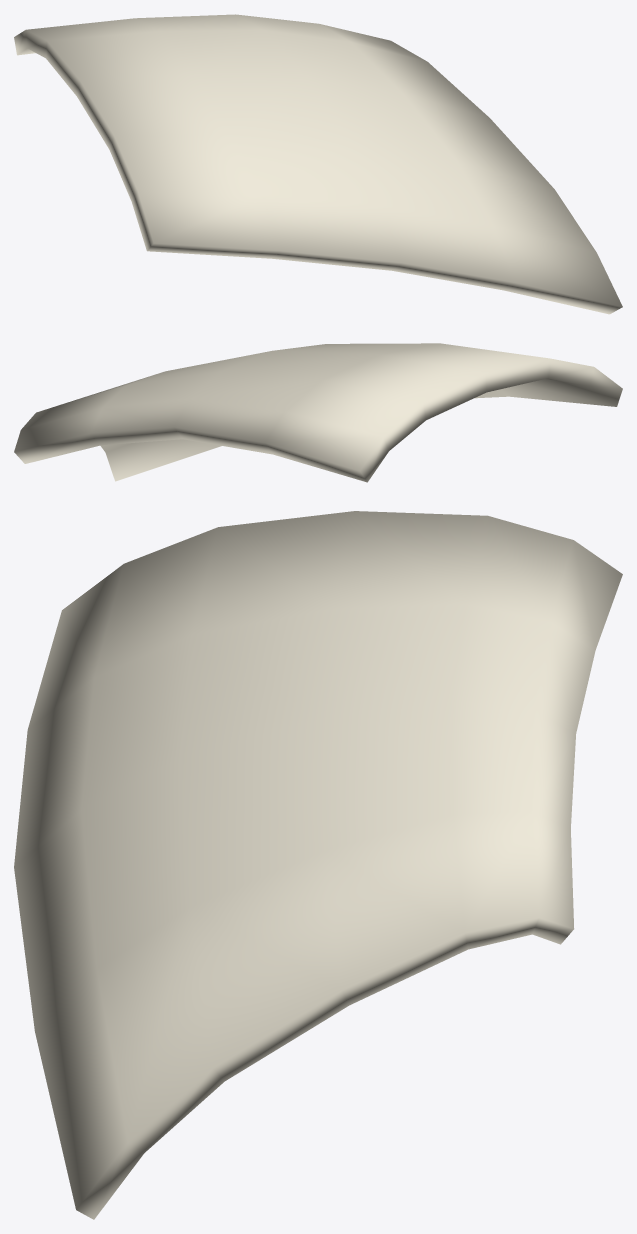
The picture shows the model from 3 angles, top to bottom: view 1: azimuth 30°, elevation 25°; view 2: azimuth 150°, elevation 25°; view 3: azimuth 270°, elevation 25°; orthographic projection. The views are drawn at different scales.
Parts seen in each view (by area): view 1: ZA_14b0054167cea652; view 2: ZA_14b0054167cea652; view 3: ZA_14b0054167cea652.
Boxes of the visible parts, bbox=[...] form: ZA_14b0054167cea652: bbox=[14, 14, 622, 314]; ZA_14b0054167cea652: bbox=[14, 343, 622, 482]; ZA_14b0054167cea652: bbox=[14, 511, 622, 1219].
Bounding box in the file's own units: 0.0147 × 0.00821 × 0.0113.
